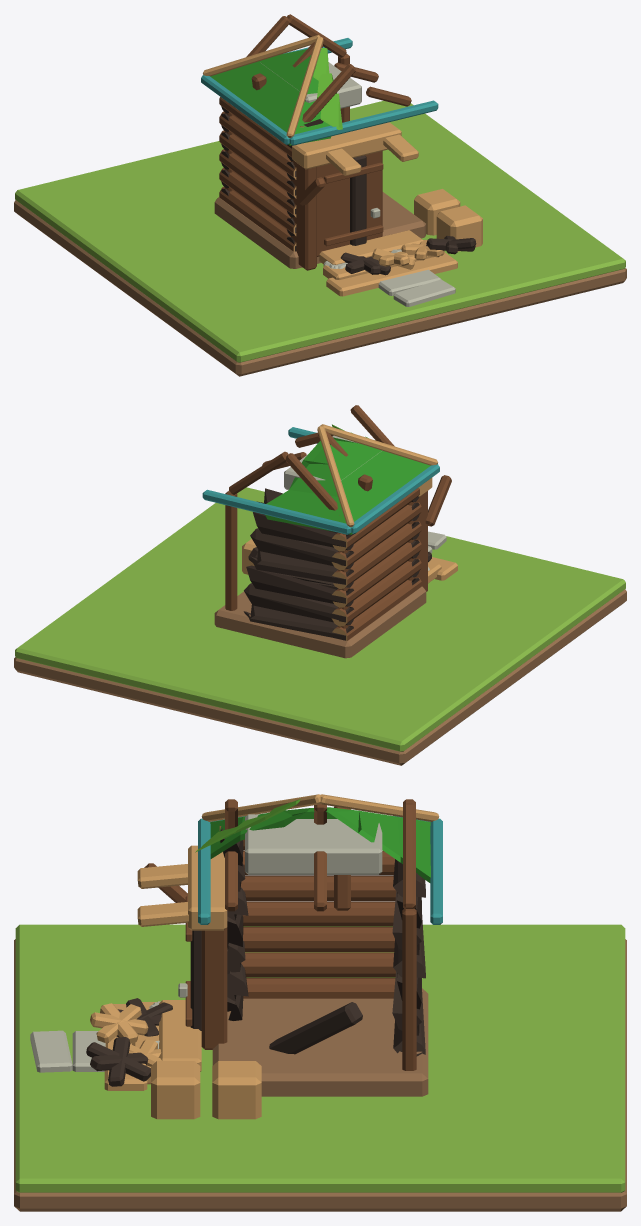
The model's file is town_hall_l01_damaged_LOD0.glb.
3 renders of one model, top to bottom at view 1: azimuth 30°, elevation 25°; view 2: azimuth 150°, elevation 25°; view 3: azimuth 270°, elevation 25°, orthographic. The views are drawn at different scales.
Parts seen in each view (by area): view 1: town_hall_l01_damaged_grass_tile, town_hall_l01_damaged_earth_tile, town_hall_l01_damaged_door_recess, town_hall_l01_damaged_foundation, town_hall_l01_damaged_door_lintel, town_hall_l01_damaged_hip_roof_shingle.011, town_hall_l01_damaged_door_jamb, town_hall_l01_damaged_entry_step.002, town_hall_l01_damaged_eave_trim, town_hall_l01_damaged_hip_roof_shingle.010, town_hall_l01_damaged_blueprint_crate, town_hall_l01_damaged_entry_step (+21 smaller); view 2: town_hall_l01_damaged_grass_tile, town_hall_l01_damaged_earth_tile, town_hall_l01_damaged_foundation, town_hall_l01_damaged_hip_roof_shingle.011, town_hall_l01_damaged_wall_log.009, town_hall_l01_damaged_wall_log.005, town_hall_l01_damaged_wall_log.013, town_hall_l01_damaged_wall_log.017, town_hall_l01_damaged_eave_trim.002, town_hall_l01_damaged_wall_log.001, town_hall_l01_damaged_hip_roof_shingle.010, town_hall_l01_damaged_hip_roof_shingle.008 (+17 smaller); view 3: town_hall_l01_damaged_grass_tile, town_hall_l01_damaged_foundation, town_hall_l01_damaged_earth_tile, town_hall_l01_damaged_surviving_tower_course, town_hall_l01_damaged_wall_log.006, town_hall_l01_damaged_wall_log.010, town_hall_l01_damaged_wall_log.014, town_hall_l01_damaged_door_recess, town_hall_l01_damaged_wall_log.018, town_hall_l01_damaged_wall_log.002, town_hall_l01_damaged_blueprint_crate, town_hall_l01_damaged_blueprint_crate.001 (+27 smaller).
Boxes of the visible parts, box(x1,y1,x2,y2) form: town_hall_l01_damaged_grass_tile: box(15, 100, 625, 362); town_hall_l01_damaged_earth_tile: box(14, 200, 626, 376); town_hall_l01_damaged_door_recess: box(317, 151, 382, 256); town_hall_l01_damaged_foundation: box(214, 192, 426, 268); town_hall_l01_damaged_door_lintel: box(292, 122, 401, 169); town_hall_l01_damaged_hip_roof_shingle.011: box(210, 66, 295, 145); town_hall_l01_damaged_door_jamb: box(293, 161, 316, 270); town_hall_l01_damaged_entry_step.002: box(326, 252, 457, 296); town_hall_l01_damaged_eave_trim: box(289, 100, 438, 145); town_hall_l01_damaged_hip_roof_shingle.010: box(243, 54, 305, 104); town_hall_l01_damaged_blueprint_crate: box(436, 205, 482, 251); town_hall_l01_damaged_entry_step: box(319, 230, 423, 264); town_hall_l01_damaged_grass_tile: box(15, 487, 625, 751); town_hall_l01_damaged_earth_tile: box(14, 589, 626, 765); town_hall_l01_damaged_foundation: box(214, 586, 426, 658); town_hall_l01_damaged_hip_roof_shingle.011: box(345, 455, 430, 534); town_hall_l01_damaged_wall_log.009: box(246, 565, 353, 606); town_hall_l01_damaged_wall_log.005: box(244, 583, 353, 625); town_hall_l01_damaged_wall_log.013: box(250, 550, 353, 587); town_hall_l01_damaged_wall_log.017: box(250, 528, 353, 568); town_hall_l01_damaged_eave_trim.002: box(202, 489, 351, 534); town_hall_l01_damaged_wall_log.001: box(243, 605, 353, 640); town_hall_l01_damaged_hip_roof_shingle.010: box(335, 443, 397, 493); town_hall_l01_damaged_hip_roof_shingle.008: box(265, 490, 351, 534); town_hall_l01_damaged_grass_tile: box(15, 924, 625, 1192); town_hall_l01_damaged_foundation: box(212, 988, 428, 1096); town_hall_l01_damaged_earth_tile: box(14, 939, 626, 1211); town_hall_l01_damaged_surviving_tower_course: box(245, 814, 382, 874); town_hall_l01_damaged_wall_log.006: box(241, 952, 395, 977); town_hall_l01_damaged_wall_log.010: box(243, 927, 394, 951); town_hall_l01_damaged_wall_log.014: box(242, 901, 395, 926); town_hall_l01_damaged_door_recess: box(201, 928, 227, 1049); town_hall_l01_damaged_wall_log.018: box(241, 876, 396, 901); town_hall_l01_damaged_wall_log.002: box(243, 978, 395, 998); town_hall_l01_damaged_blueprint_crate: box(151, 1061, 200, 1119); town_hall_l01_damaged_blueprint_crate.001: box(212, 1061, 261, 1119).
Bounding box in the file's own units: 3.6 × 1.87 × 3.6.
